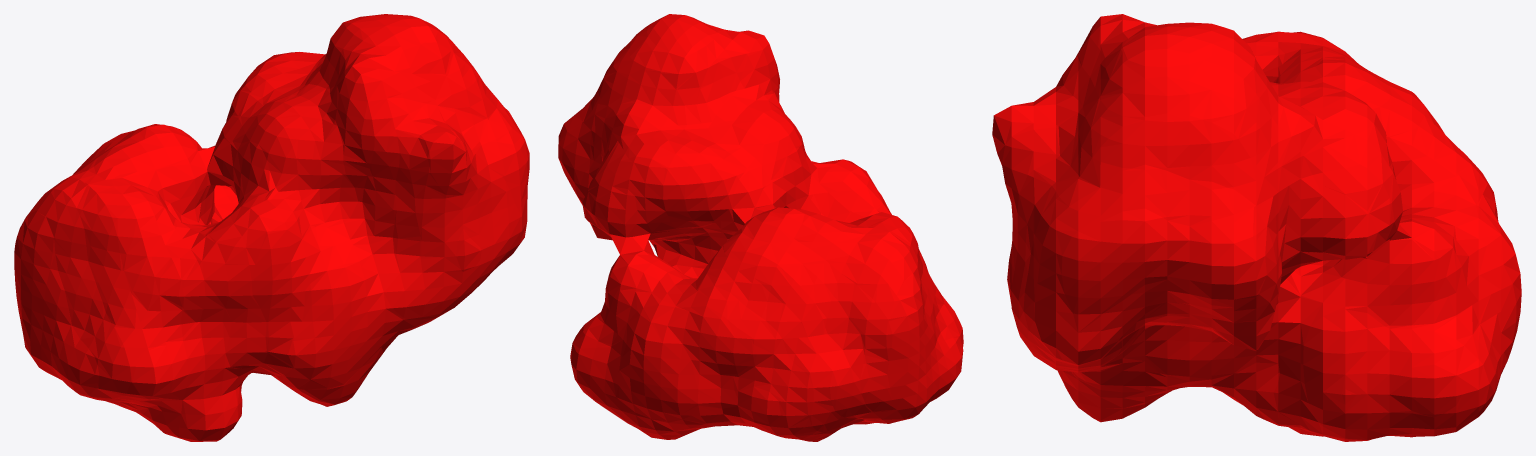
The model's file is rsmB_coarse.dae.
3 views of the same model, side by side, from view 1: azimuth 30°, elevation 25°; view 2: azimuth 150°, elevation 25°; view 3: azimuth 270°, elevation 25° (orthographic). The views are drawn at different scales.
Parts seen in each view (by area): view 1: rsmB; view 2: rsmB; view 3: rsmB.
Boxes of the visible parts, x1,y1,x2,y2 form: rsmB: (14,14,529,441); rsmB: (558,14,963,441); rsmB: (992,14,1521,441).
Bounding box in the file's own units: 70.05 × 57.9 × 59.11.
